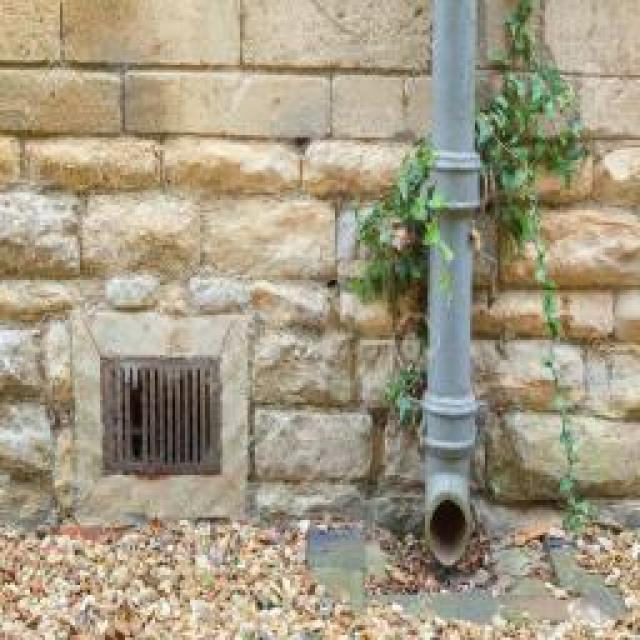vegetation: (345, 0, 602, 536)
